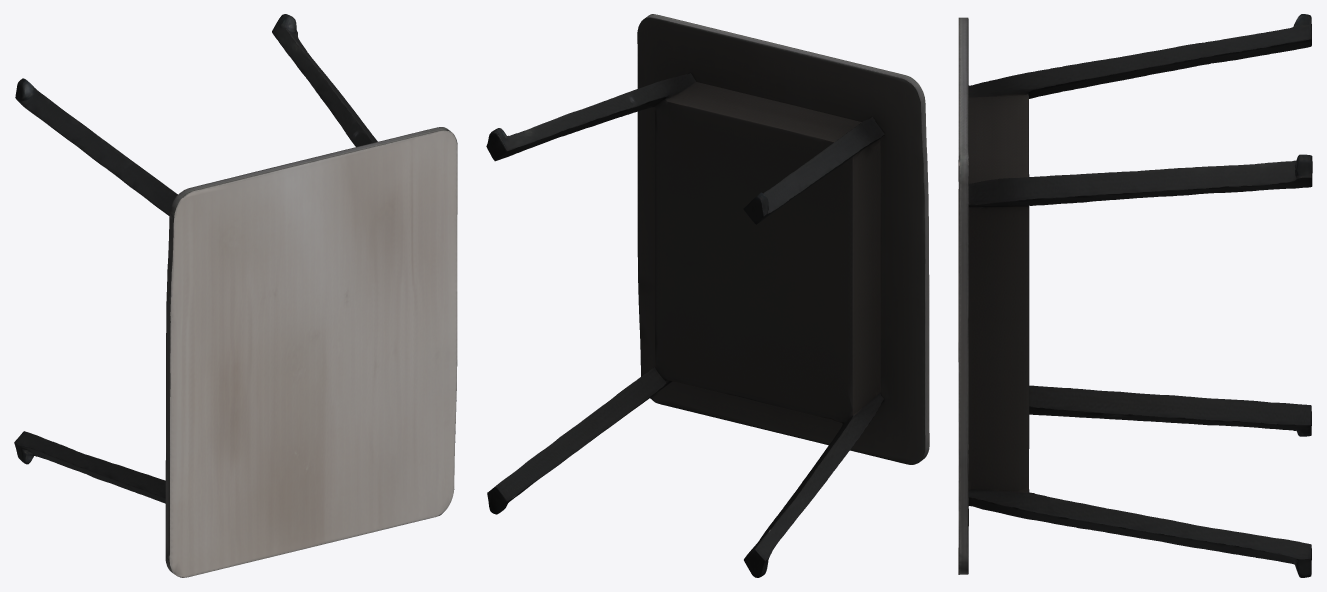
Rendered from table.obj.
The picture shows the model from 3 angles, left to right: view 1: azimuth 30°, elevation 25°; view 2: azimuth 150°, elevation 25°; view 3: azimuth 270°, elevation 25°; orthographic projection. The views are drawn at different scales.
Parts seen in each view (by area): view 1: geometry_0; view 2: geometry_0; view 3: geometry_0.
Boxes of the visible parts, x1,y1,x2,y2 form: geometry_0: (14, 14, 457, 577); geometry_0: (486, 14, 929, 577); geometry_0: (958, 14, 1312, 577).
Bounding box in the file's own units: 0.7747 × 0.9898 × 0.75.
Materials: 1 (1 with a texture image).
